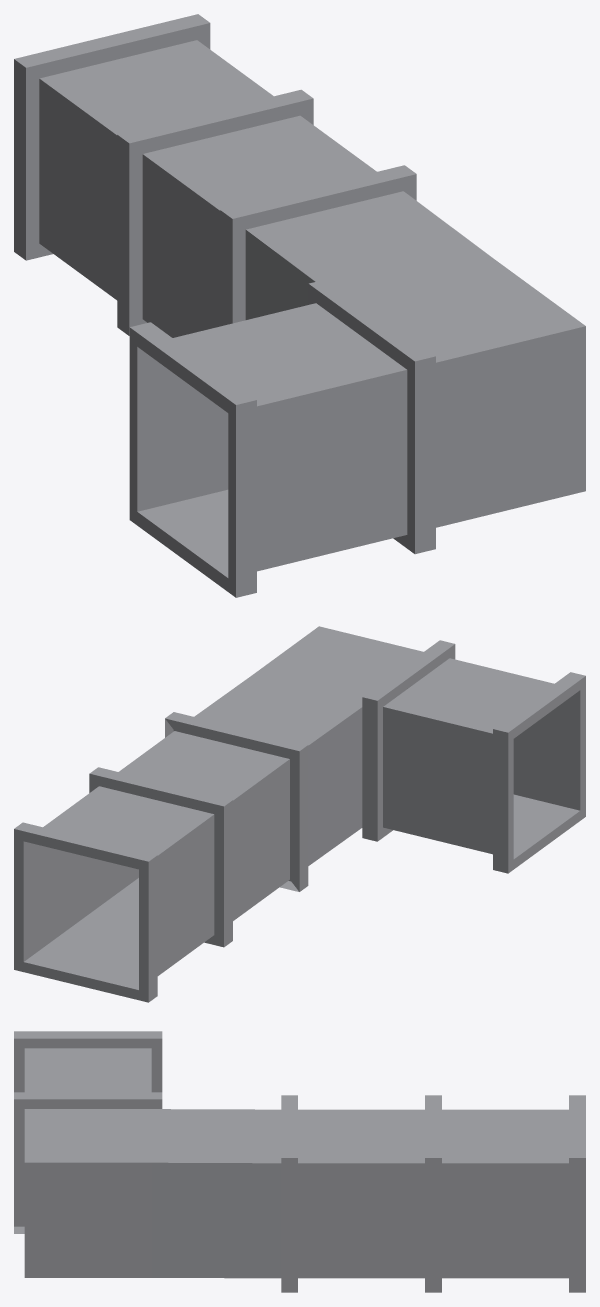
Rendered from VentCorner.glb.
3 views of the same model, one above another, from view 1: azimuth 30°, elevation 25°; view 2: azimuth 150°, elevation 25°; view 3: azimuth 270°, elevation 25° (orthographic). The views are drawn at different scales.
Visible parts, largest first — view 1: Plane.004; view 2: Plane.004; view 3: Plane.004.
Boxes of the visible parts, bbox=[...] form: Plane.004: bbox=[14, 14, 585, 597]; Plane.004: bbox=[14, 626, 585, 1002]; Plane.004: bbox=[14, 1031, 585, 1292].
Size of the model in its own units: 3.54 by 1.75 by 6.76.
1 material, 1 textured.
